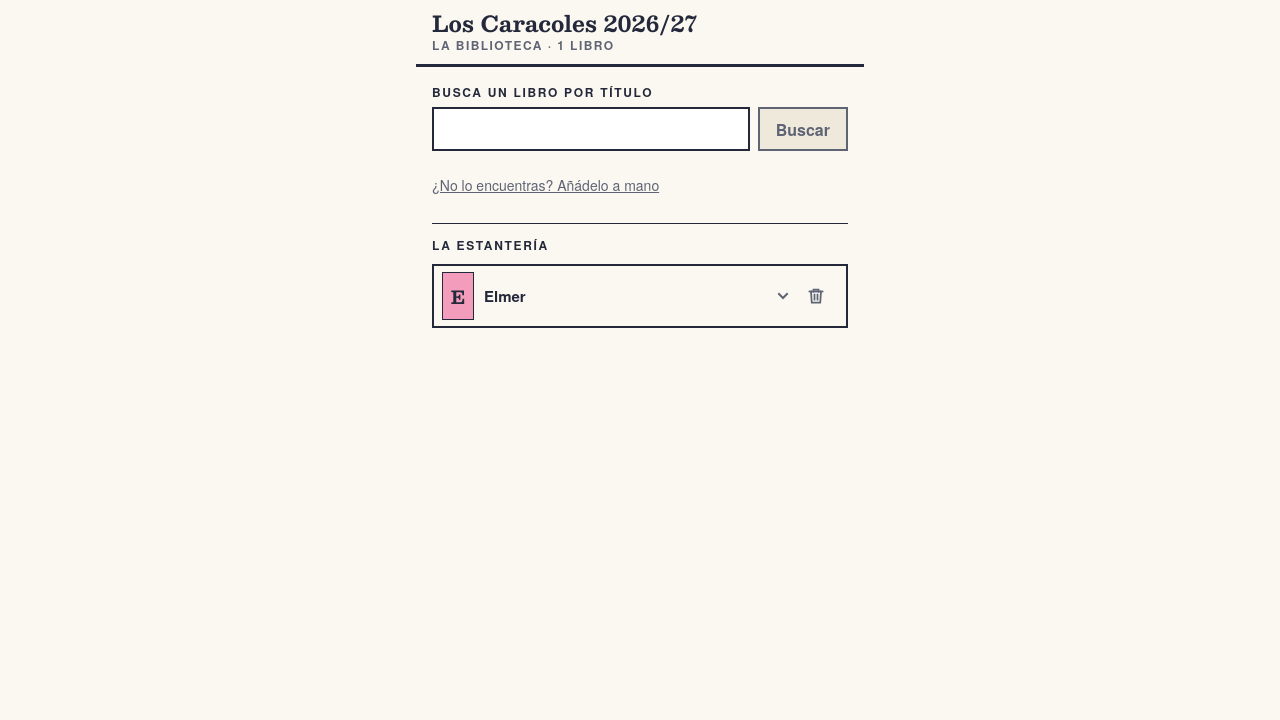
Test: <LibraryScreen /> › asks before removing a book that is at a child's home
Click the button named "Elmer, quitar" at (816, 296), box x1=794 y1=274 x2=838 y2=318
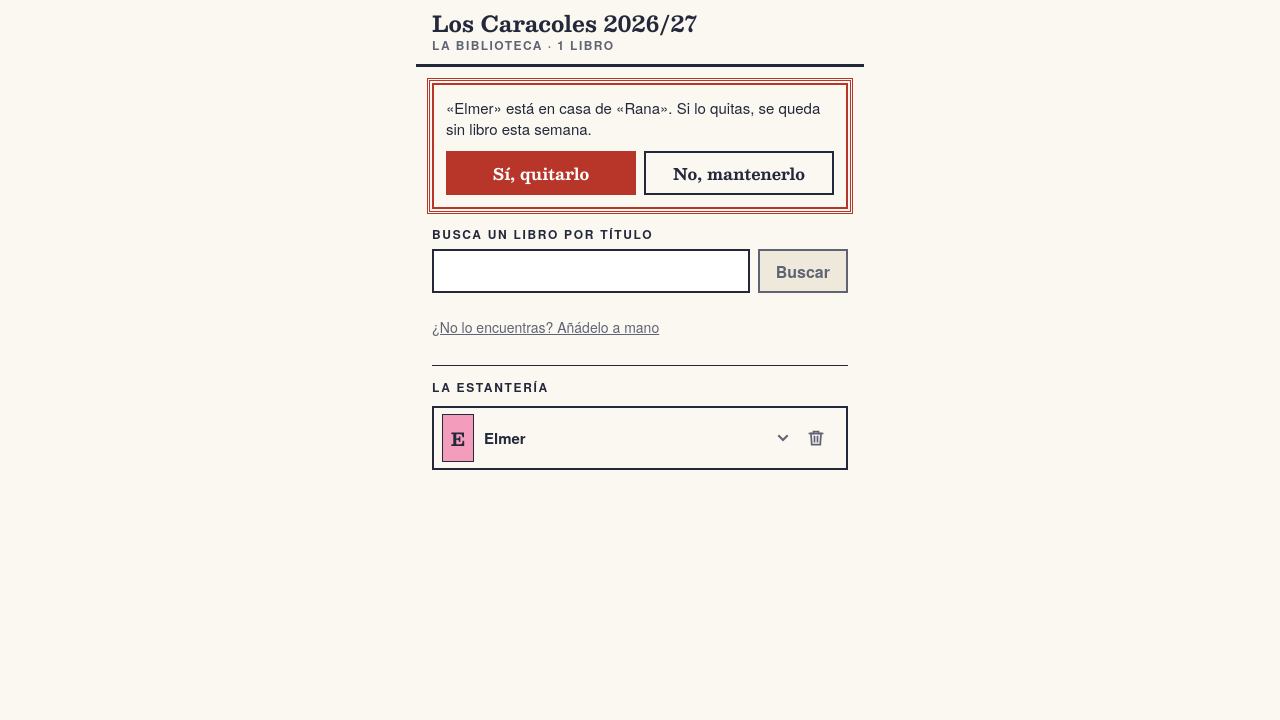
expect the text "está en casa de «Rana»" is shown: met, box x1=446 y1=97 x2=834 y2=139
Click the button "Sí, quitarlo" at (541, 173), box x1=446 y1=151 x2=636 y2=195
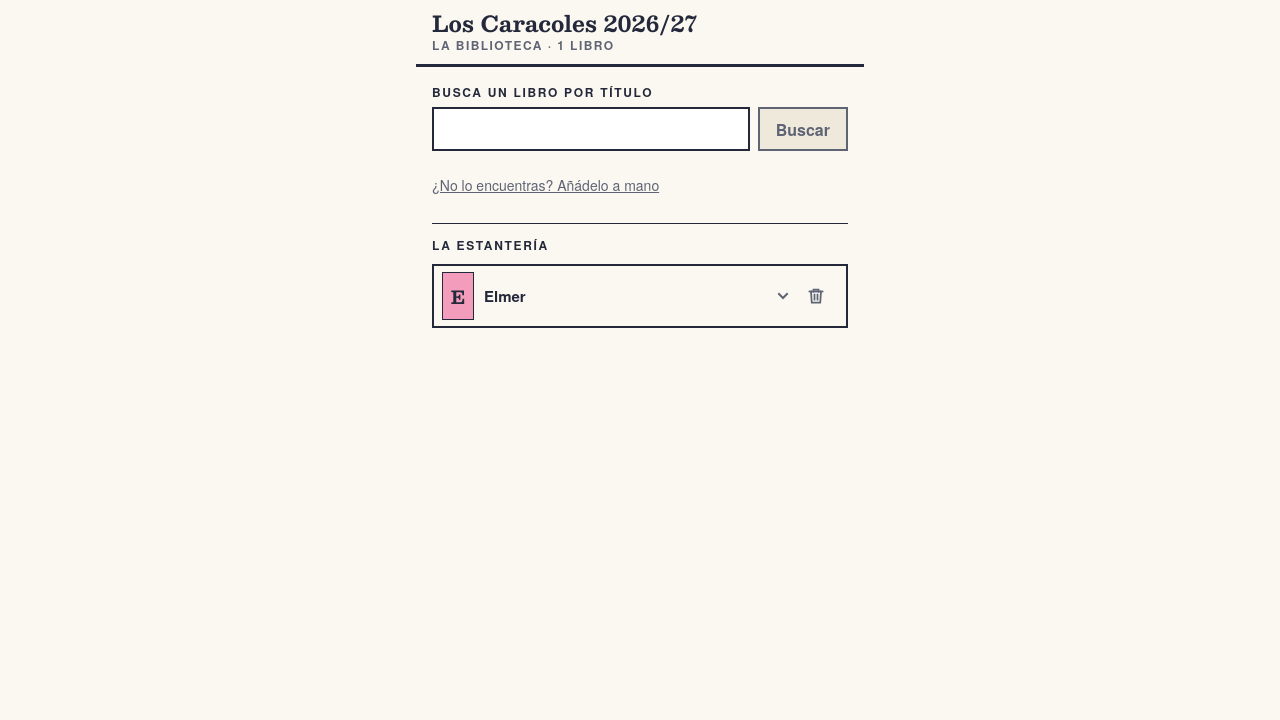
expect the text "está en casa" is gone: met
